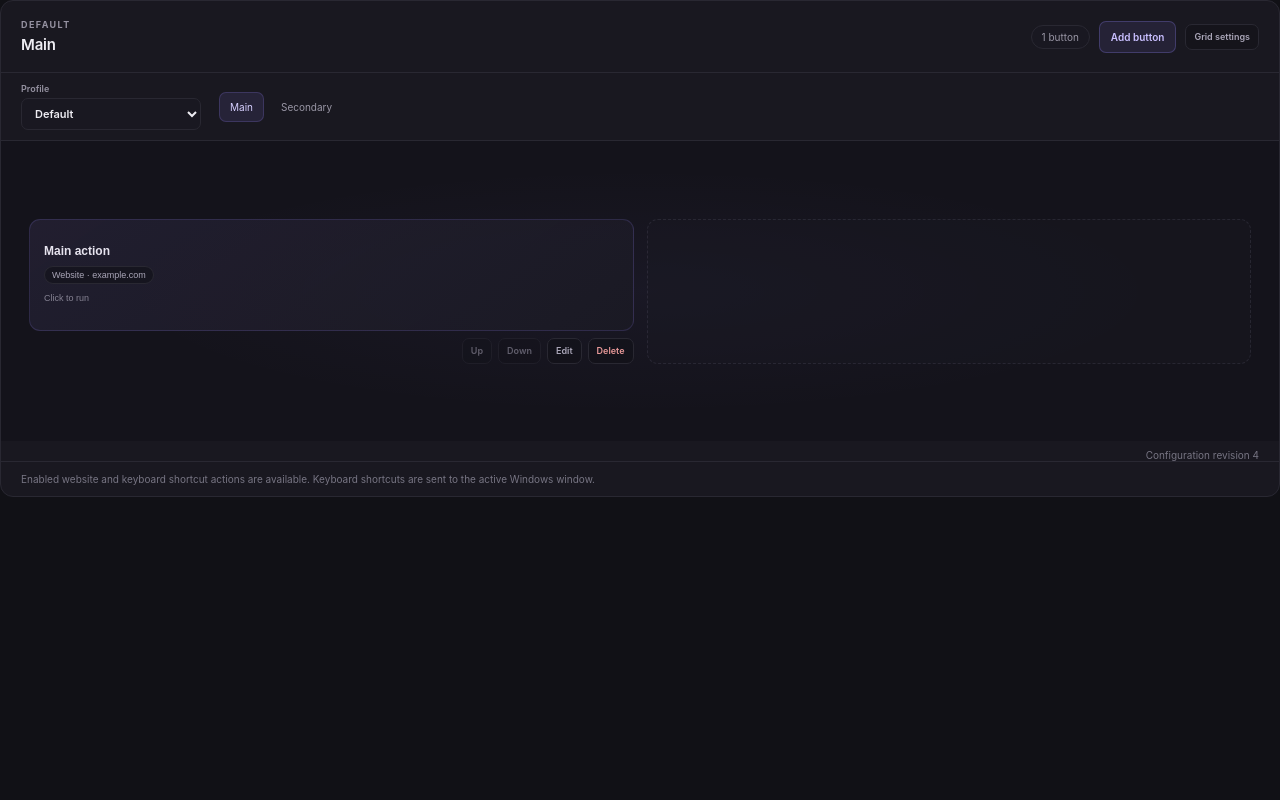
Test: ConfigurationButtonGrid › creates and deletes buttons on the selected non-default page
The width and height of the screenshot is (1280, 800).
Click the button "Secondary" at (307, 106), box [270,92,343,122]
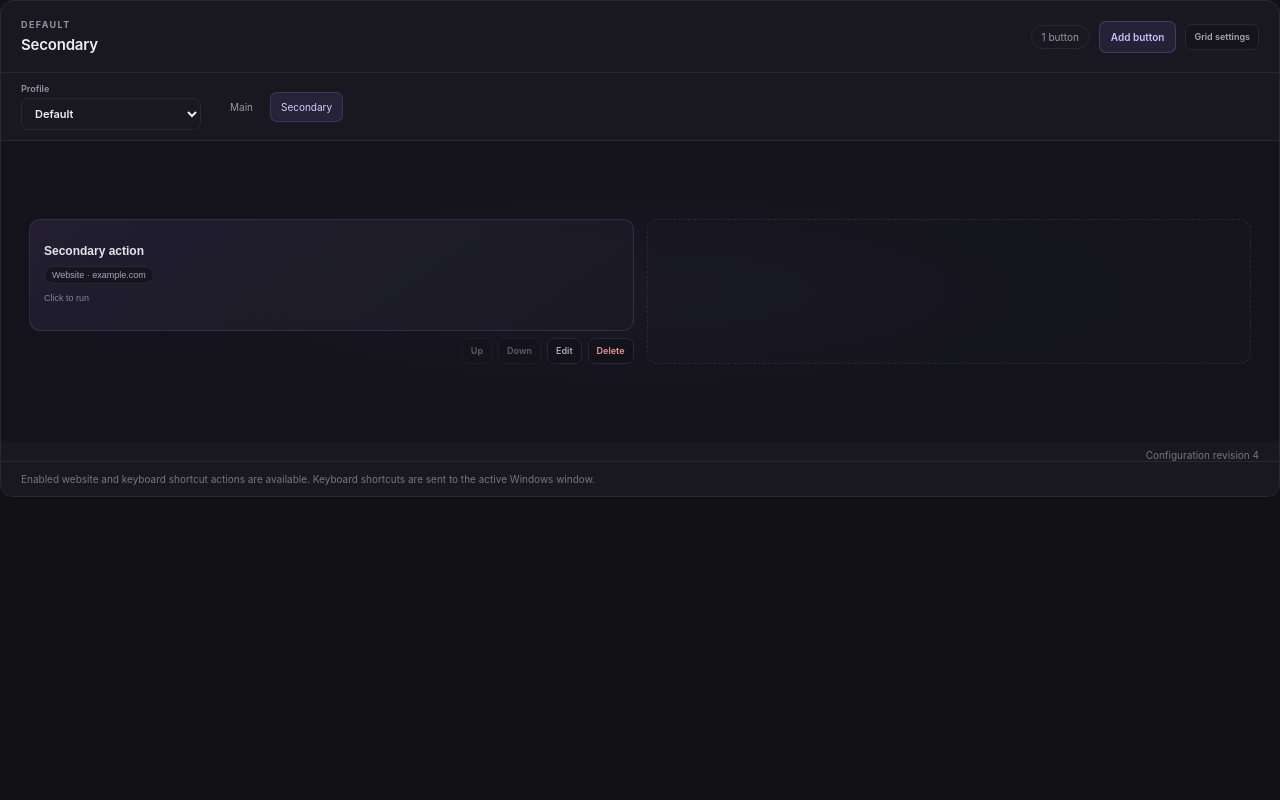
Click the button "Add button" at (1138, 36), box [1099,20,1176,52]
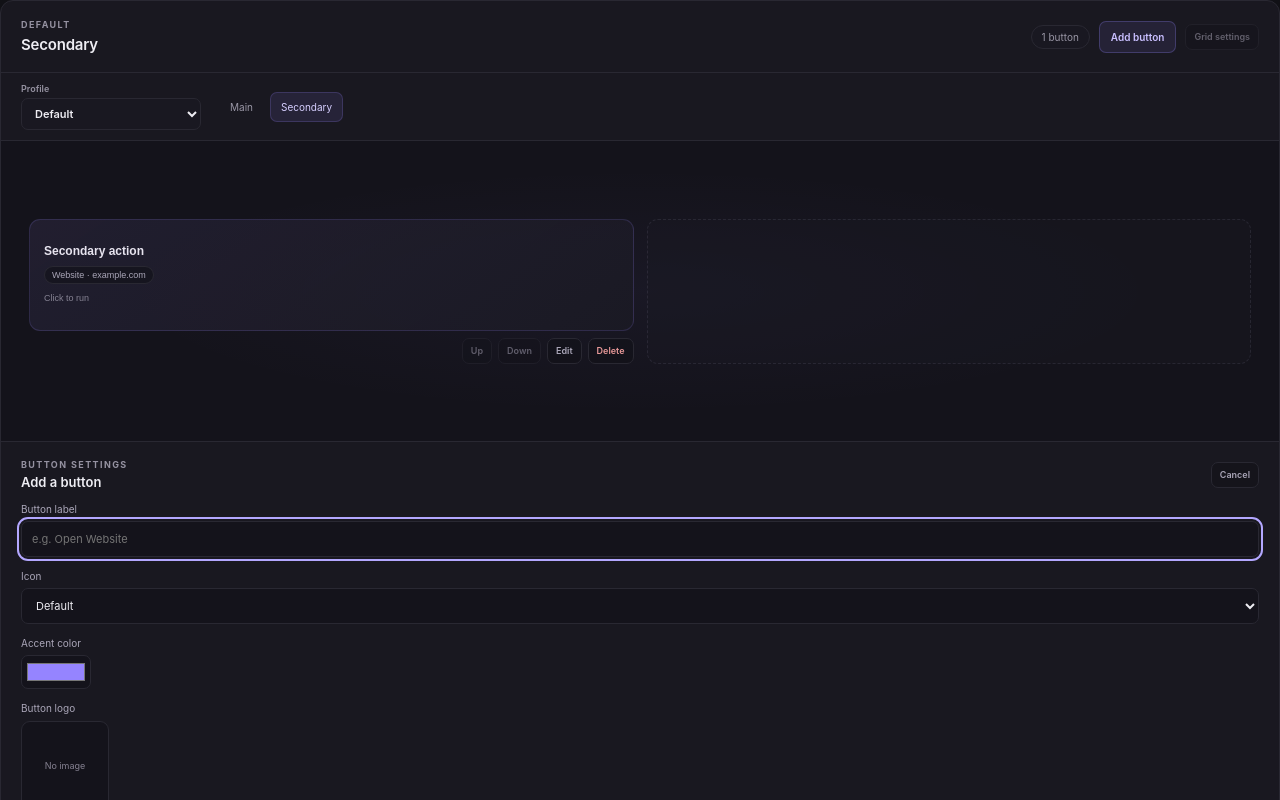
Type "Extra secondary" into the field labelled "Button label" at (640, 539), box [21,521,1259,557]
(page scrolled)
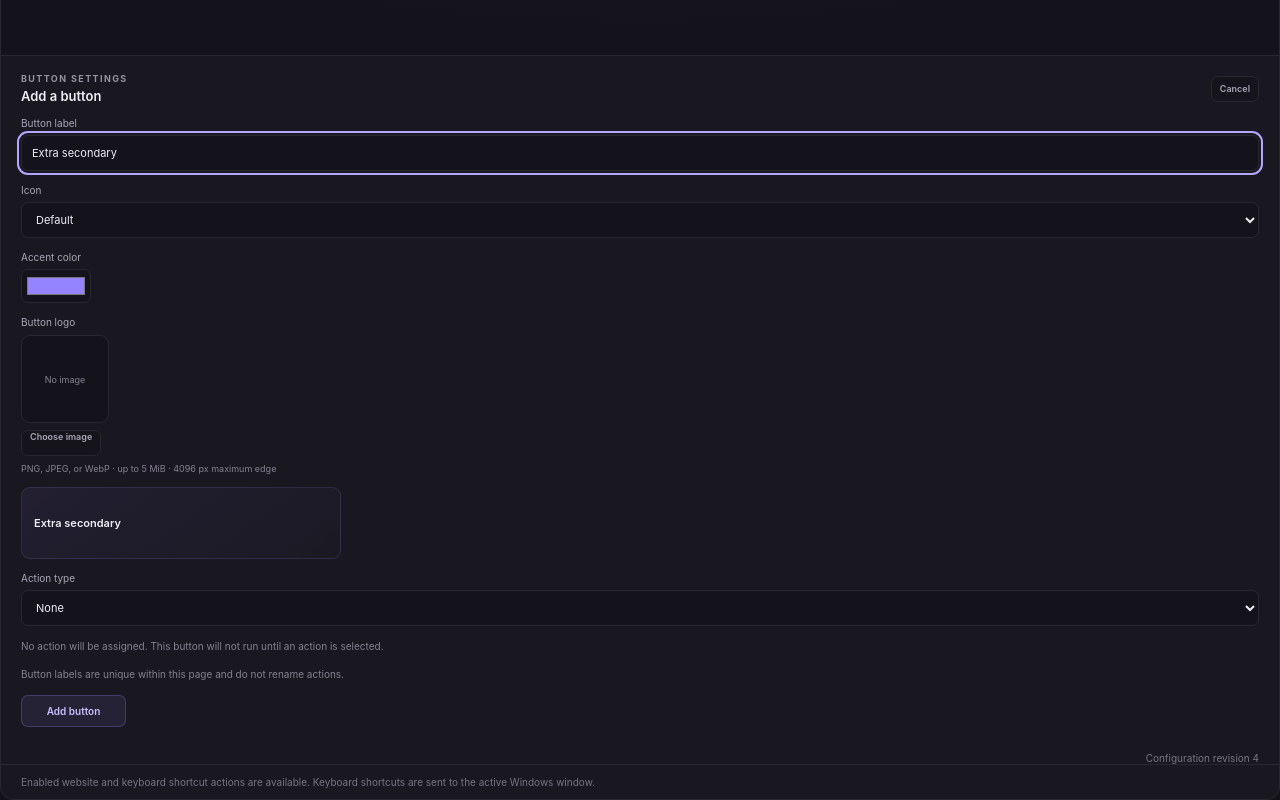
Click the button "Add button" at (74, 711), box [21,695,126,727]
(page scrolled)
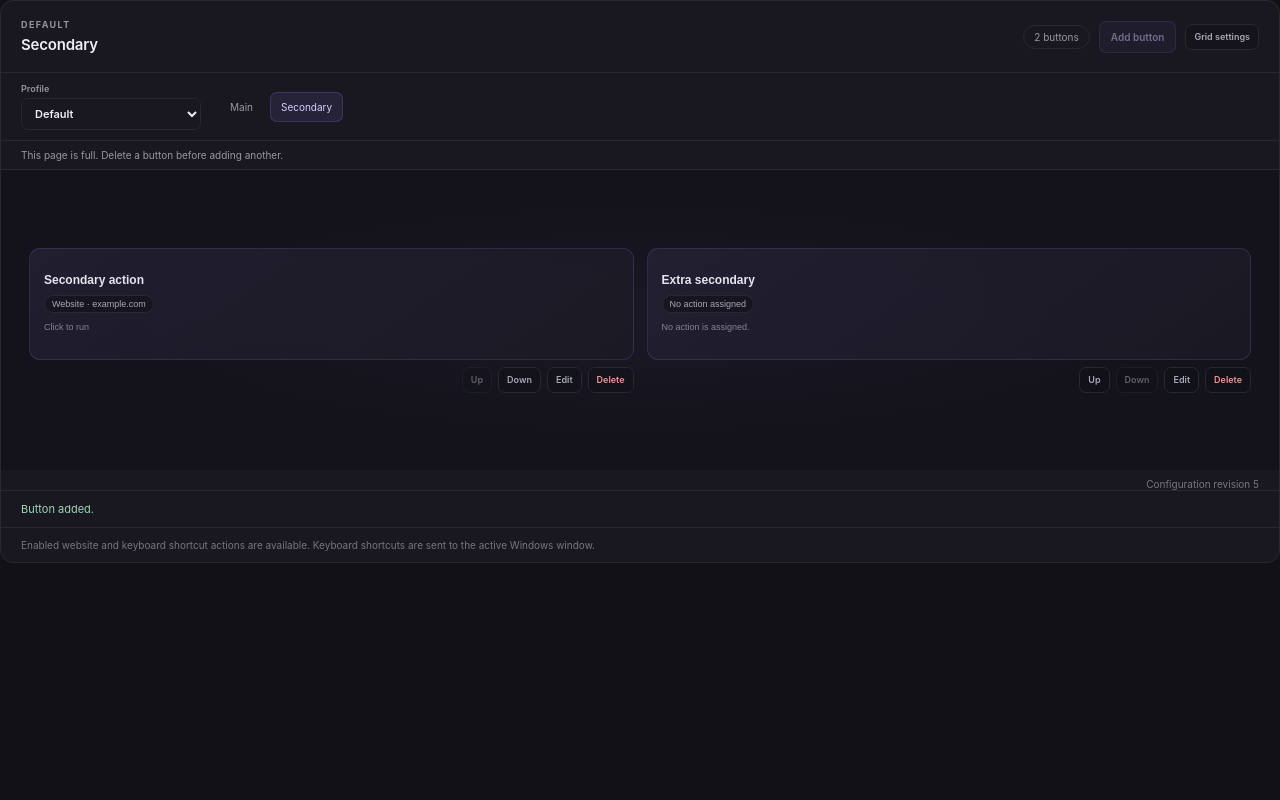
Check: the text "Button added." is shown, box [1,490,1279,527]
Check: the button "Extra secondary No action assigned No action is assigned." is shown, box [646,248,1251,360]
Click the button with aria-label "Delete Secondary action" at (611, 380), box [588,366,634,392]
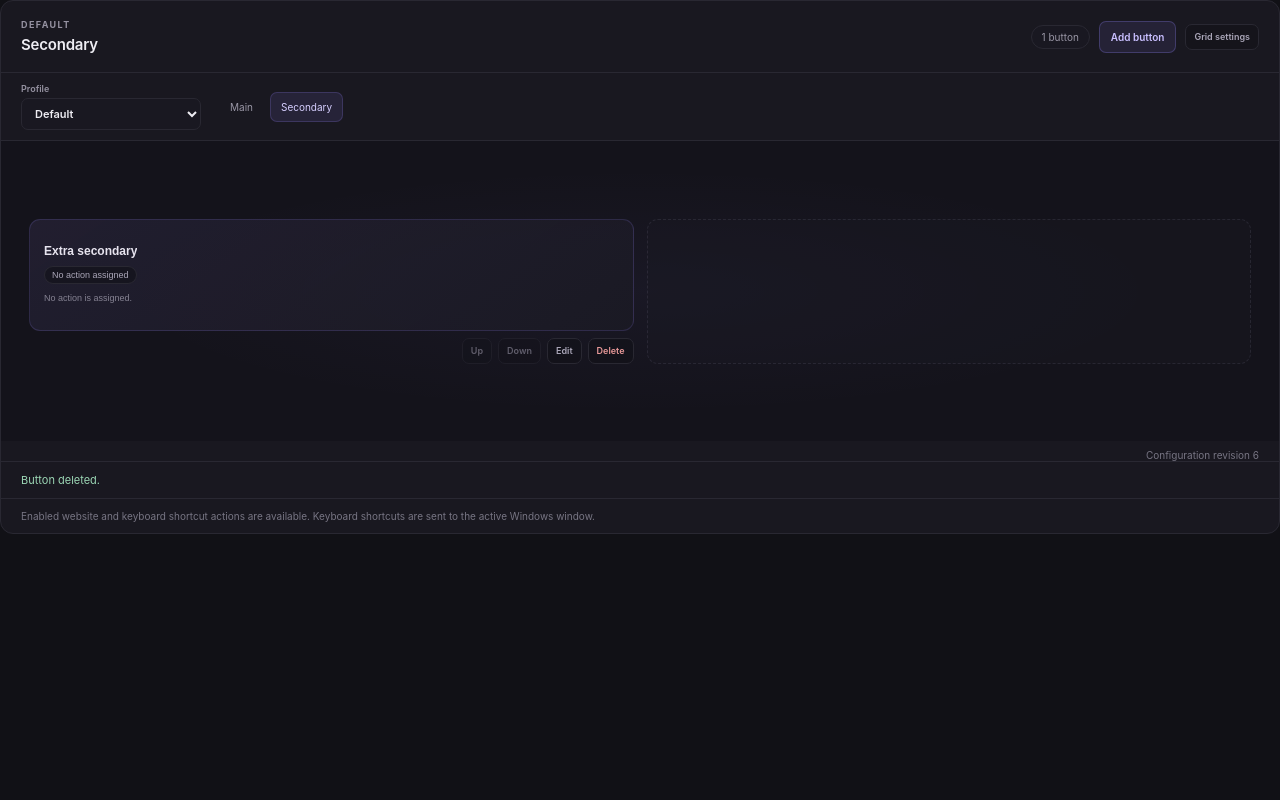
Check: the text "Button deleted." is shown, box [1,461,1279,498]
